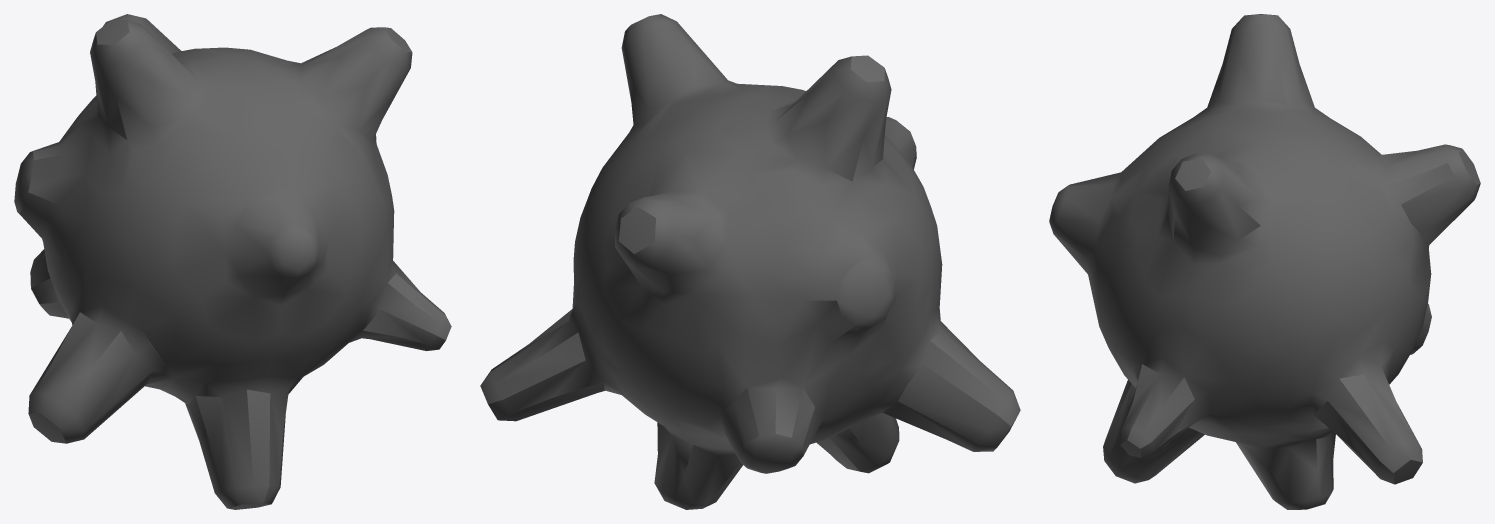
Rendered from Planet1.gltf.
3 views of the same model, side by side, from view 1: azimuth 30°, elevation 25°; view 2: azimuth 150°, elevation 25°; view 3: azimuth 270°, elevation 25° (orthographic). The views are drawn at different scales.
Visible parts, largest first — view 1: Planet1; view 2: Planet1; view 3: Planet1.
Boxes of the visible parts, box(x1,y1,x2,y2) form: Planet1: box(14, 14, 451, 509); Planet1: box(480, 14, 1020, 509); Planet1: box(1049, 14, 1480, 509).
Bounding box in the file's own units: 5.43 × 5.79 × 5.16.
Materials: 1 (1 with a texture image).
